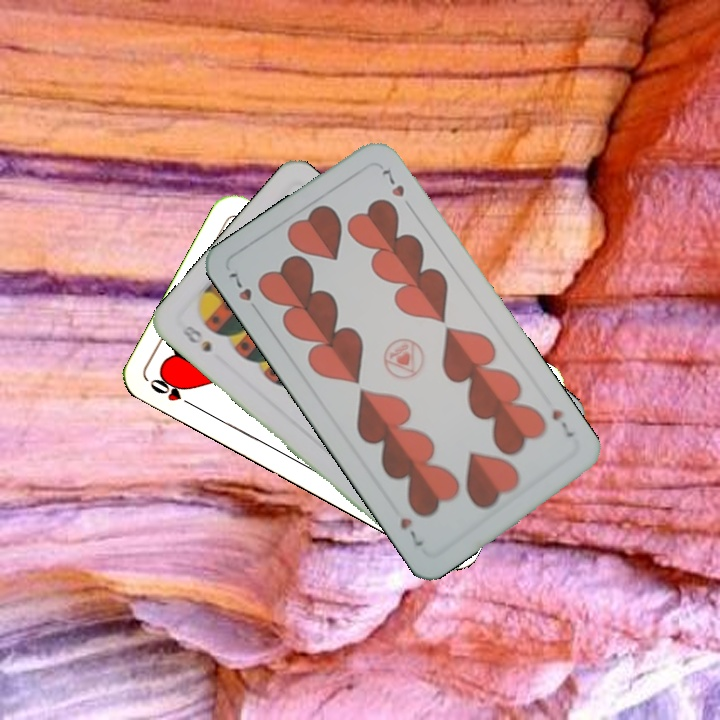H7: (224, 268, 264, 317), (547, 406, 577, 441)
HO: (146, 370, 199, 411)
S8: (177, 320, 214, 355)
